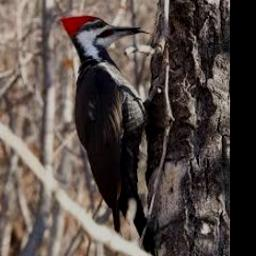Woodpecker: (61, 16, 152, 256)
